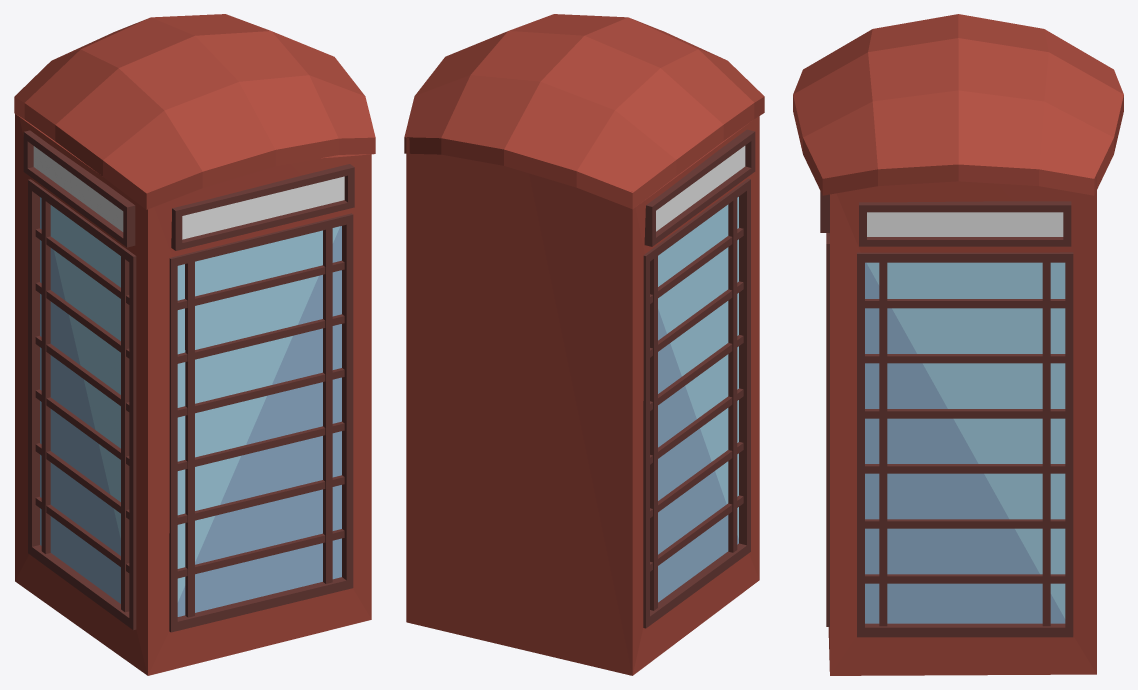
Rendered from phone_box_002.fbx.
The picture shows the model from 3 angles, left to right: view 1: azimuth 30°, elevation 25°; view 2: azimuth 150°, elevation 25°; view 3: azimuth 270°, elevation 25°; orthographic projection. The views are drawn at different scales.
Parts seen in each view (by area): view 1: phone_box_002; view 2: phone_box_002; view 3: phone_box_002.
Part boxes in pixels (x1,y1,x2,y2): phone_box_002: (14,14,375,675); phone_box_002: (404,14,764,675); phone_box_002: (793,14,1123,675).
Bounding box in the file's own units: 114 × 221 × 114.
